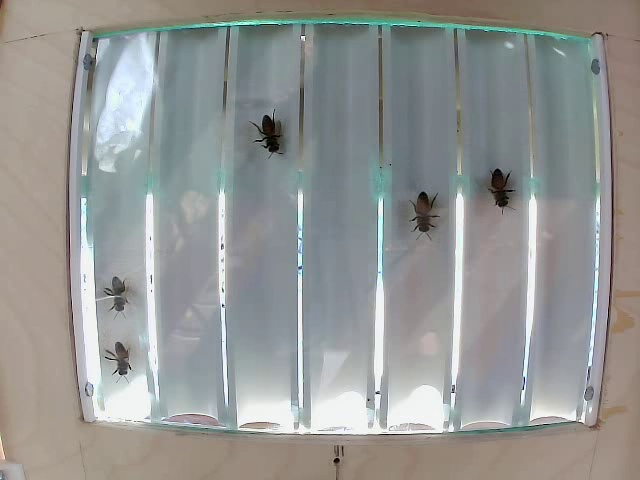bee: (481, 162, 518, 222), (407, 185, 442, 245), (96, 265, 129, 308), (247, 110, 278, 155), (111, 337, 142, 370)
